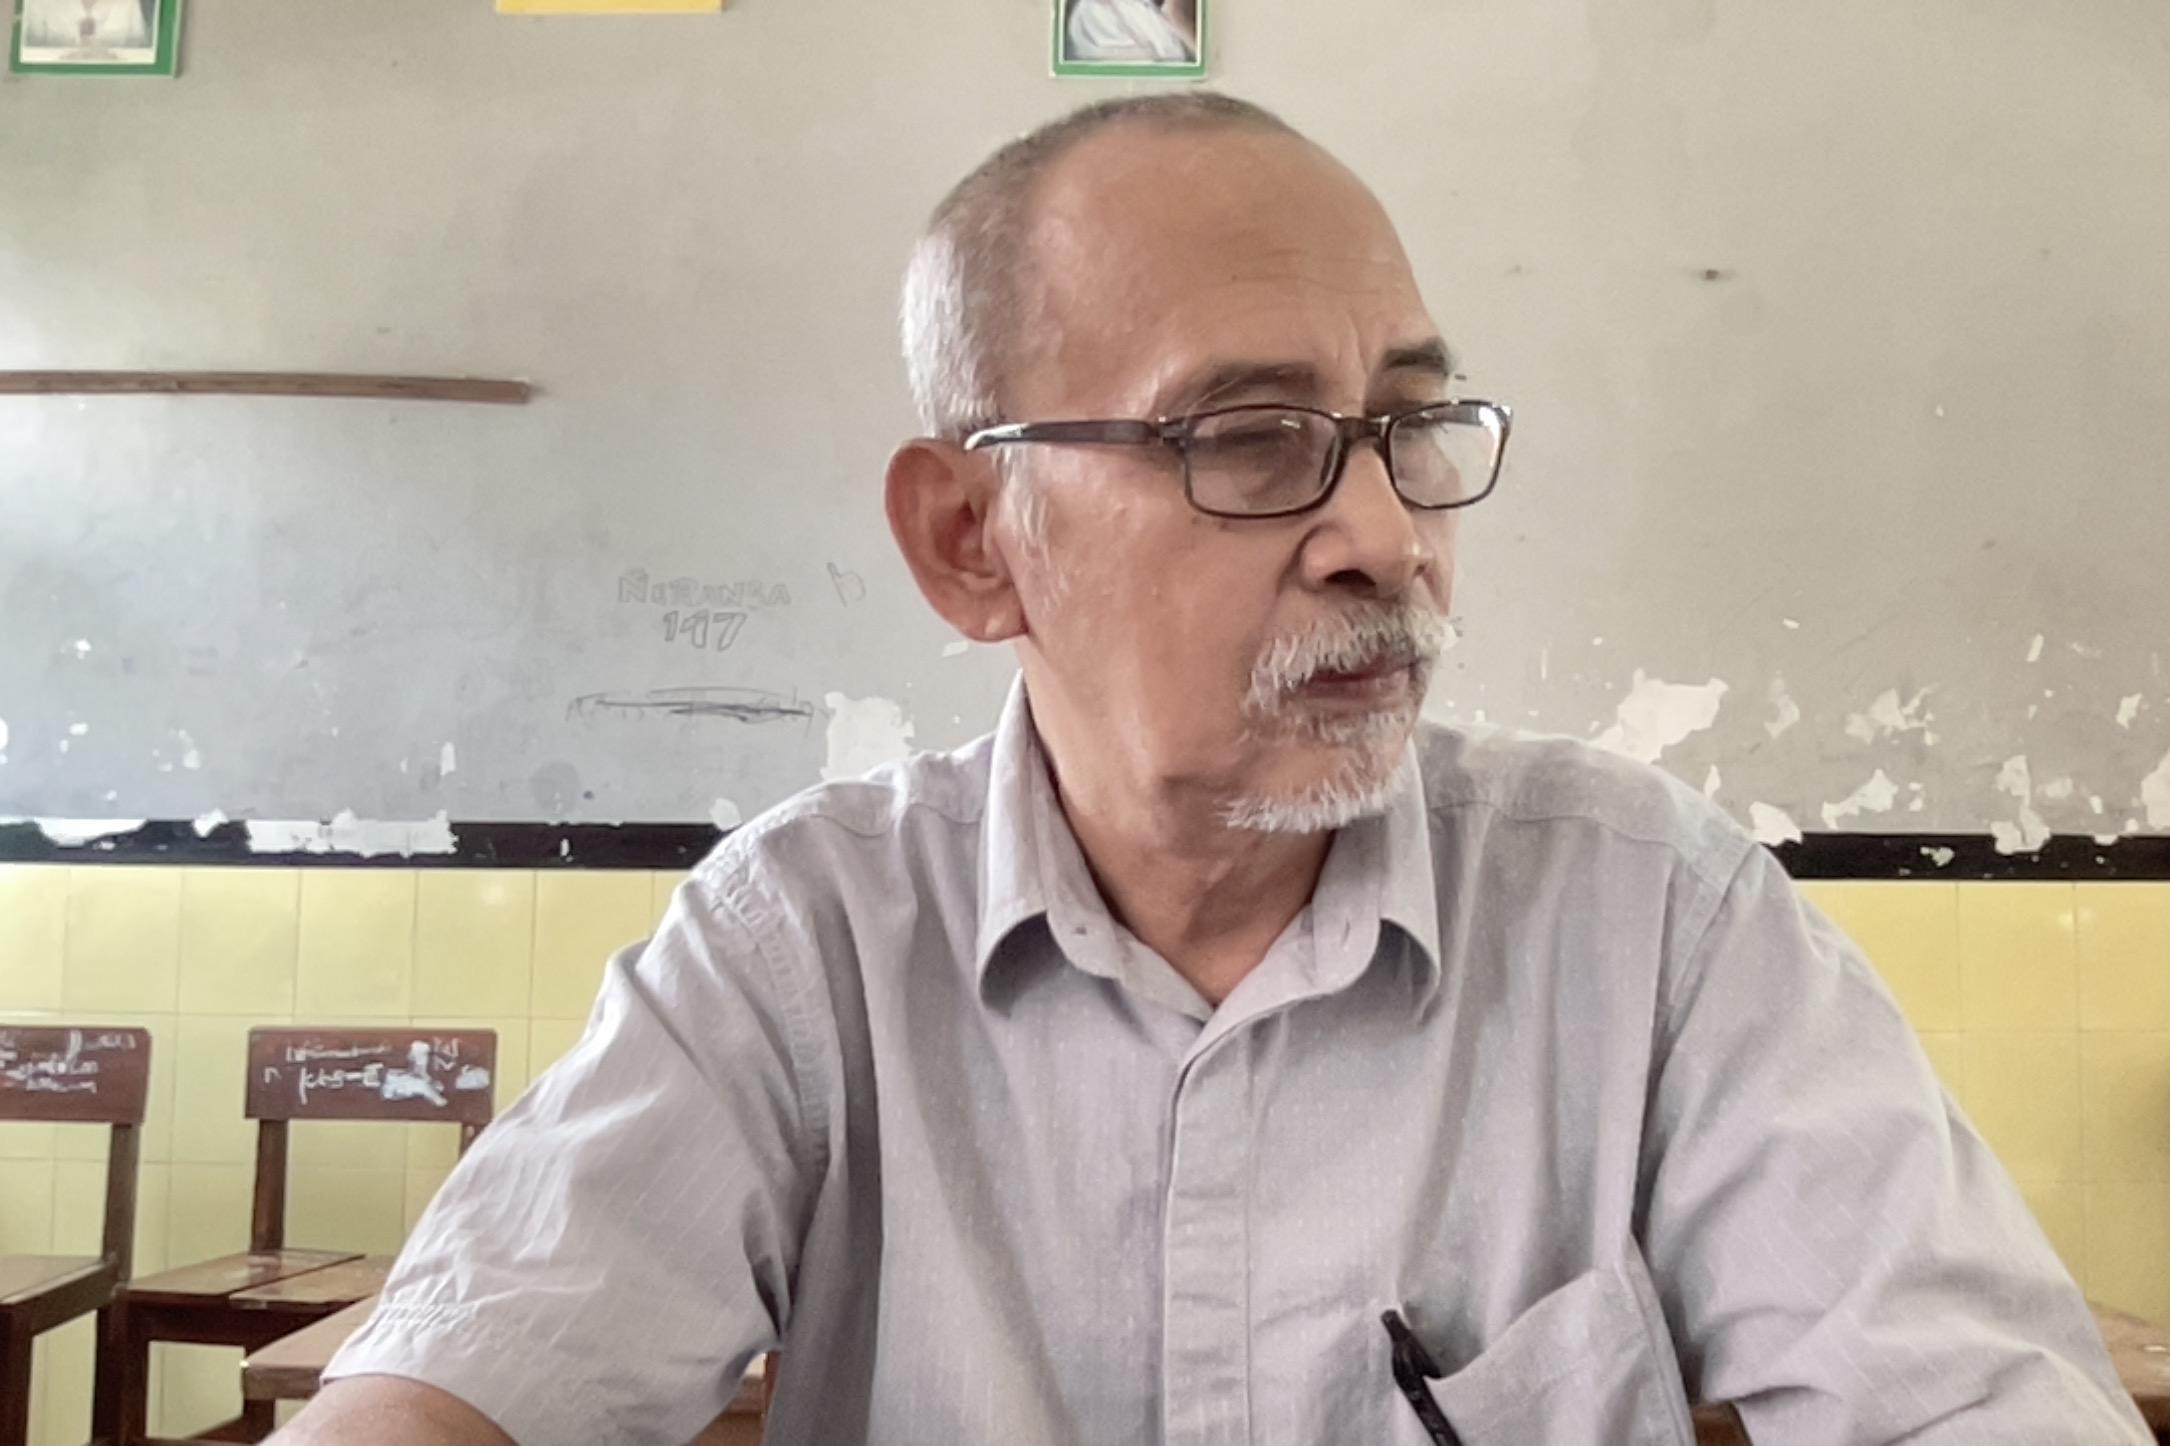cheating: (234, 61, 2170, 1446)
